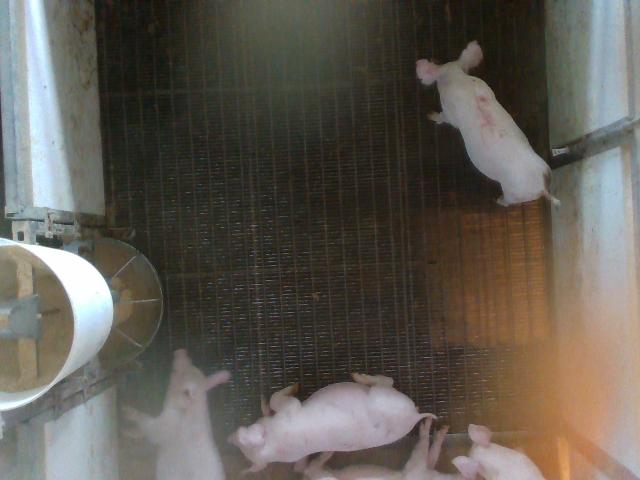pig-5: (418, 41, 560, 206)
